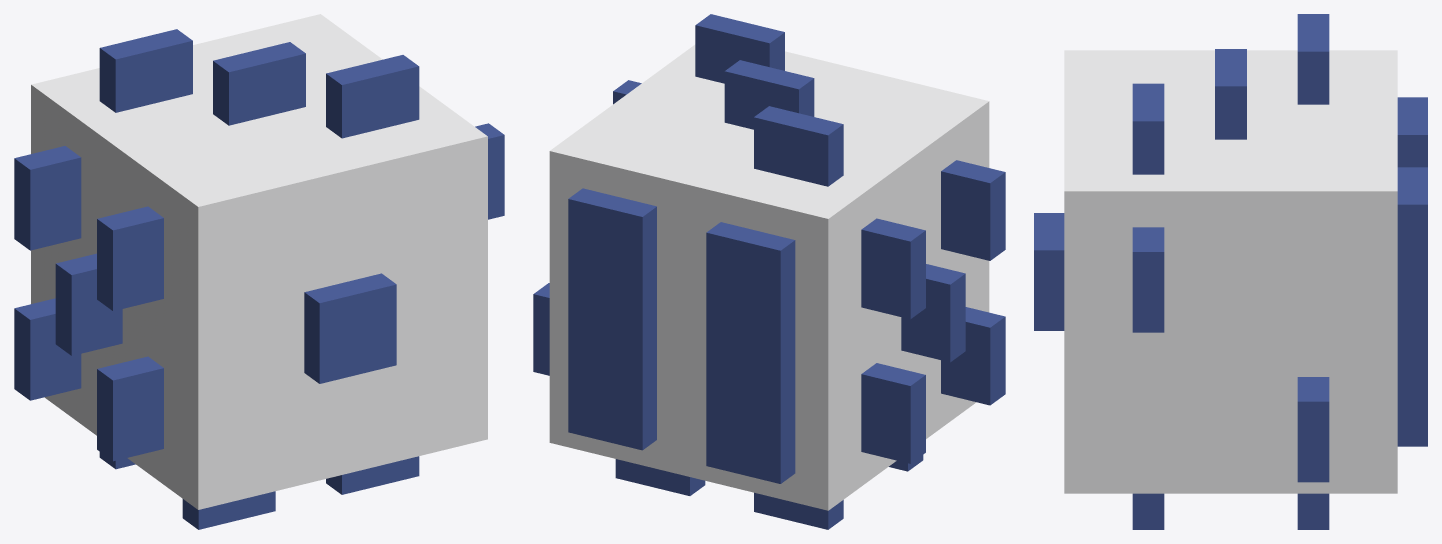
File: dice.gltf
The picture shows the model from 3 angles, left to right: view 1: azimuth 30°, elevation 25°; view 2: azimuth 150°, elevation 25°; view 3: azimuth 270°, elevation 25°; orthographic projection. The views are drawn at different scales.
Visible parts, largest first — view 1: Cube, Pip1, Pip13, Pip17, Pip15, Pip14, Pip11, Pip16, Pip10, Pip12, Pip20, Pip21 (+1 smaller); view 2: Cube, Pip6, Pip7, Pip2, Pip4, Pip5, Pip3, Pip13, Pip14, Pip10, Pip15, Pip11 (+6 smaller); view 3: Cube, Pip7, Pip1, Pip9, Pip8, Pip17, Pip15, Pip16, Pip3, Pip5, Pip6, Pip19 (+1 smaller).
Part boxes in pixels (x1,y1,x2,y2): Cube: (31, 14, 487, 509); Pip1: (304, 273, 396, 383); Pip13: (14, 146, 81, 250); Pip17: (326, 55, 419, 138); Pip15: (99, 29, 192, 112); Pip14: (97, 206, 163, 311); Pip11: (97, 356, 163, 461); Pip16: (213, 42, 305, 125); Pip10: (14, 298, 81, 400); Pip12: (55, 253, 122, 355); Pip20: (182, 491, 275, 529); Pip21: (326, 456, 419, 494); Cube: (549, 44, 989, 510); Pip6: (706, 222, 795, 328); Pip7: (568, 188, 656, 294); Pip2: (706, 388, 795, 483); Pip4: (706, 310, 795, 406); Pip5: (568, 277, 656, 372); Pip3: (568, 354, 656, 450); Pip13: (861, 218, 925, 319); Pip14: (941, 160, 1005, 260); Pip10: (861, 363, 925, 463); Pip15: (754, 106, 843, 186); Pip11: (941, 307, 1005, 405); Cube: (1064, 50, 1397, 493); Pip7: (1397, 167, 1427, 285); Pip1: (1034, 213, 1064, 330); Pip9: (1132, 227, 1164, 332); Pip8: (1297, 377, 1329, 482); Pip17: (1132, 83, 1164, 174); Pip15: (1297, 14, 1329, 104); Pip16: (1215, 49, 1246, 139); Pip3: (1397, 366, 1427, 446); Pip5: (1397, 285, 1427, 365); Pip6: (1397, 97, 1427, 167); Pip19: (1297, 493, 1329, 529).
Size of the model in its own units: 1.42 by 1.42 by 1.24.
